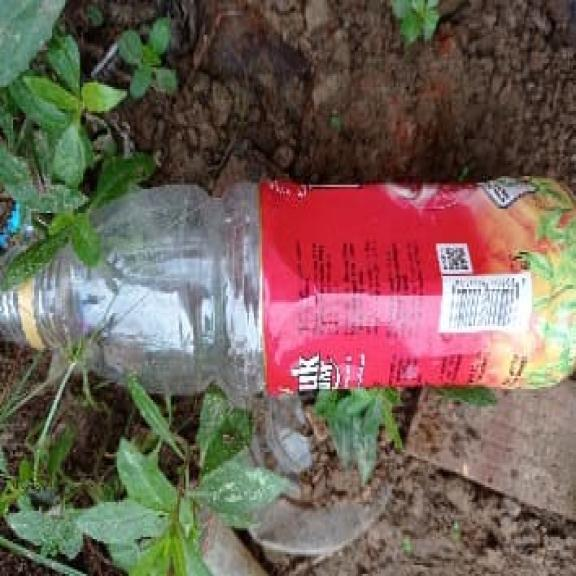Plastik: (1, 179, 575, 400)
